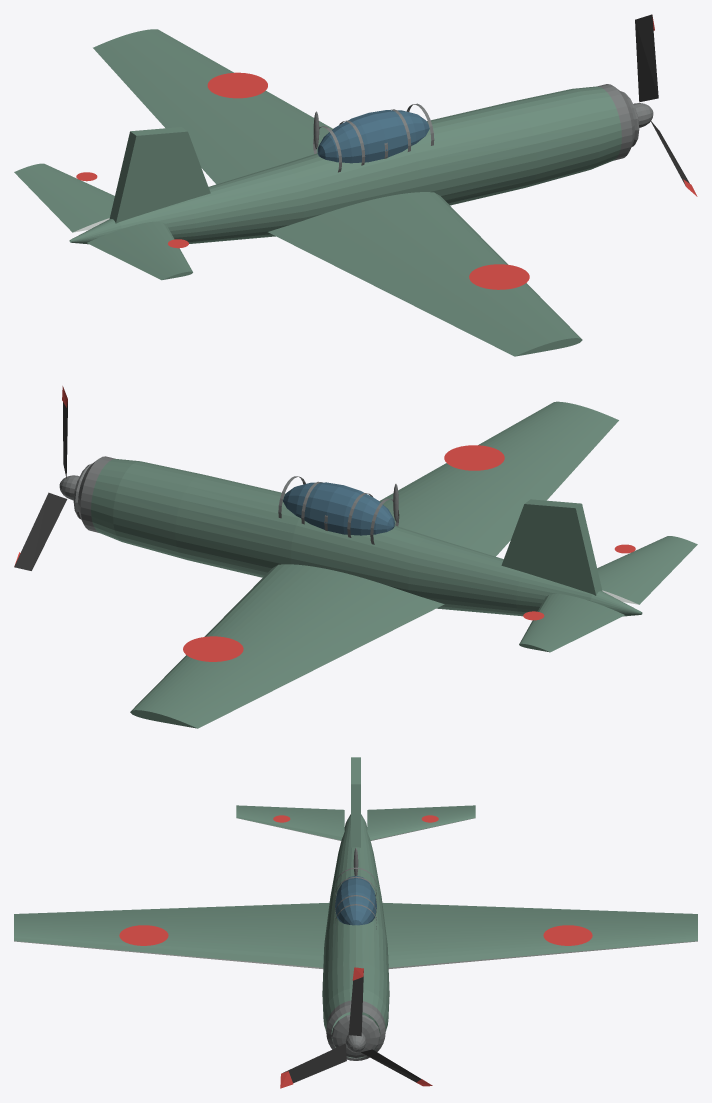
File: b-fighter.glb
3 renders of one model, top to bottom at view 1: azimuth 30°, elevation 25°; view 2: azimuth 150°, elevation 25°; view 3: azimuth 270°, elevation 25°, orthographic. The views are drawn at different scales.
Parts seen in each view (by area): view 1: B fighter; view 2: B fighter; view 3: B fighter.
Boxes of the visible parts, left/top/right/bottom form: B fighter: left=14, top=14, right=697, bottom=356; B fighter: left=14, top=386, right=697, bottom=728; B fighter: left=14, top=757, right=697, bottom=1088.
Size of the model in its own units: 9.59 by 2.49 by 12.
